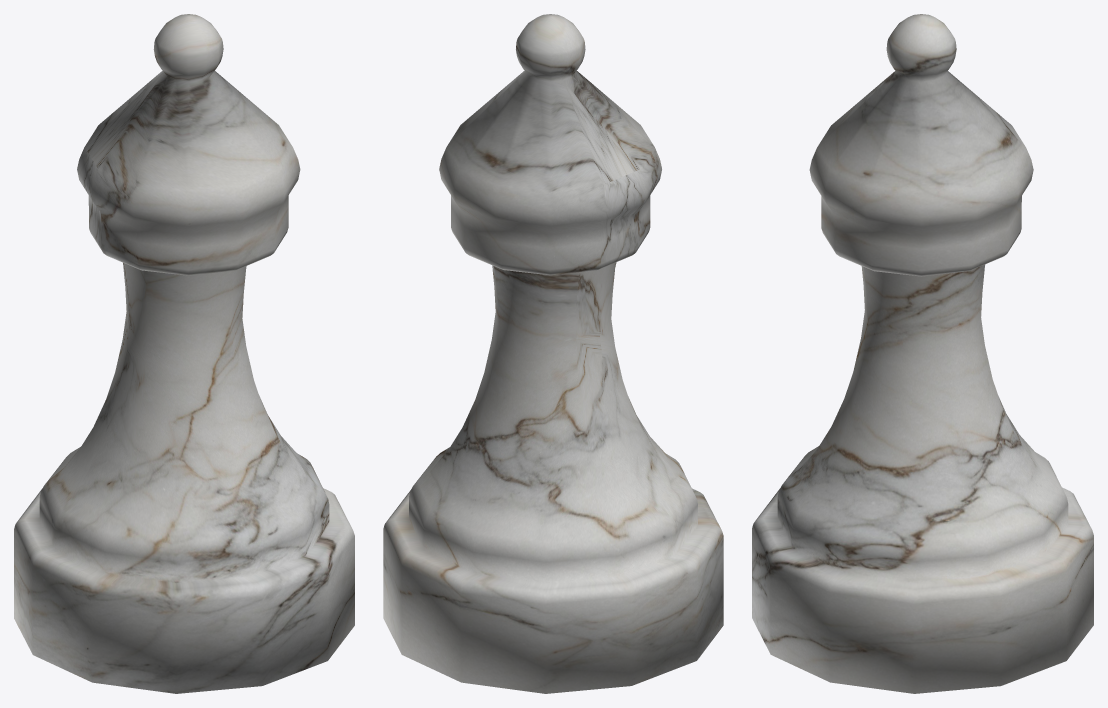
Rendered from AlfilBlanco.glb.
3 views of the same model, side by side, from view 1: azimuth 30°, elevation 25°; view 2: azimuth 150°, elevation 25°; view 3: azimuth 270°, elevation 25° (orthographic).
Parts seen in each view (by area): view 1: Alfil; view 2: Alfil; view 3: Alfil.
Part boxes in pixels (box(x1,y1,x2,y2)): Alfil: box(14, 14, 354, 693); Alfil: box(383, 14, 723, 693); Alfil: box(752, 14, 1093, 693).
Size of the model in its own units: 0.7033 by 1.38 by 0.7033.
Materials: 1 (1 with a texture image).
